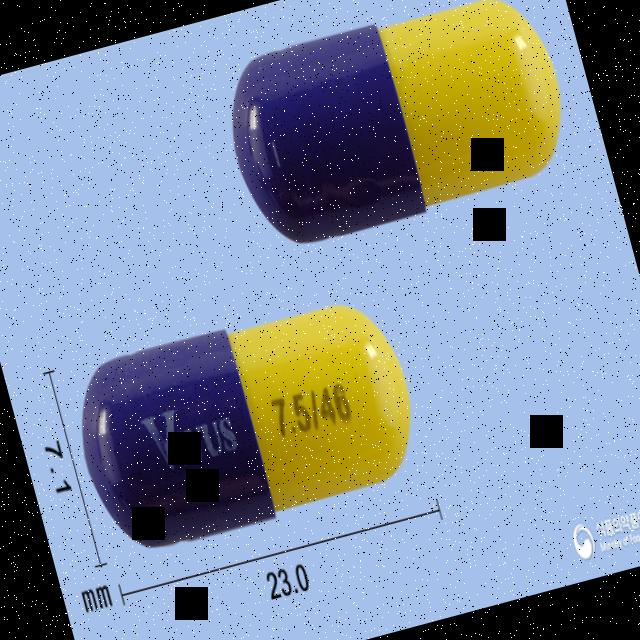Qsymia Cap-7-5mg: (61, 286, 433, 564)
